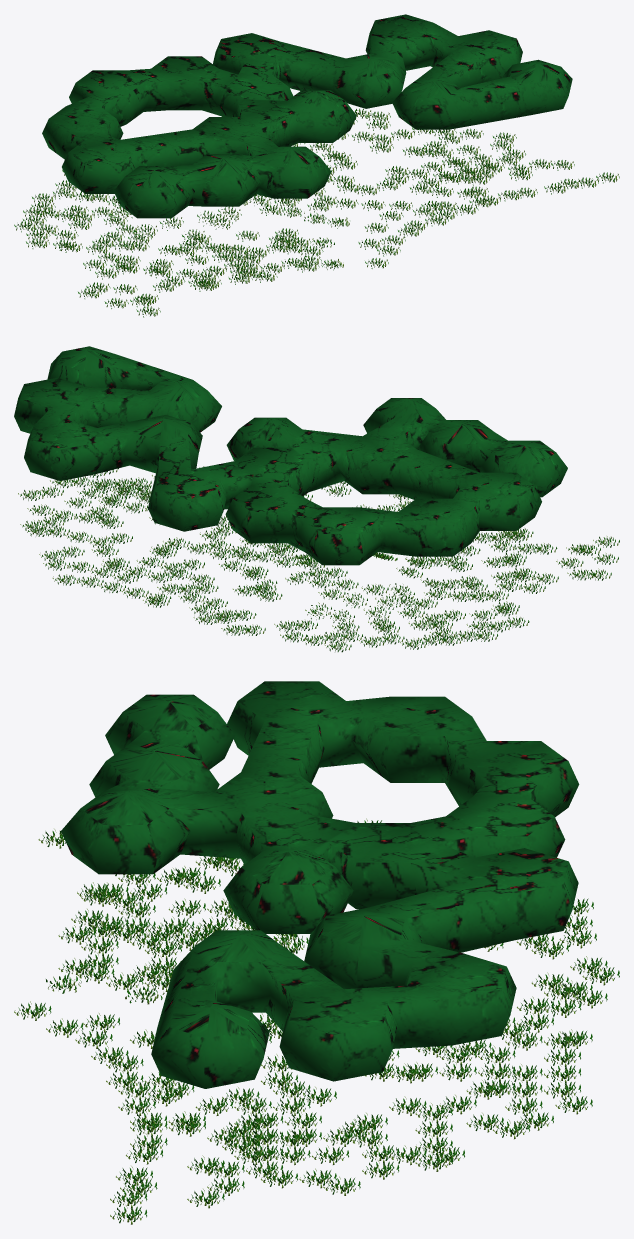
The model's file is grassBladesNorth.fbx.
3 renders of one model, top to bottom at view 1: azimuth 30°, elevation 25°; view 2: azimuth 150°, elevation 25°; view 3: azimuth 270°, elevation 25°, orthographic. The views are drawn at different scales.
Visible parts, largest first — view 1: Circle.001; view 2: Circle.001; view 3: Circle.001.
Part boxes in pixels (bbox=[...]): Circle.001: bbox=[42, 14, 572, 218]; Circle.001: bbox=[14, 346, 567, 565]; Circle.001: bbox=[61, 681, 579, 1088].
Size of the model in its own units: 5057 by 1026 by 3133.
